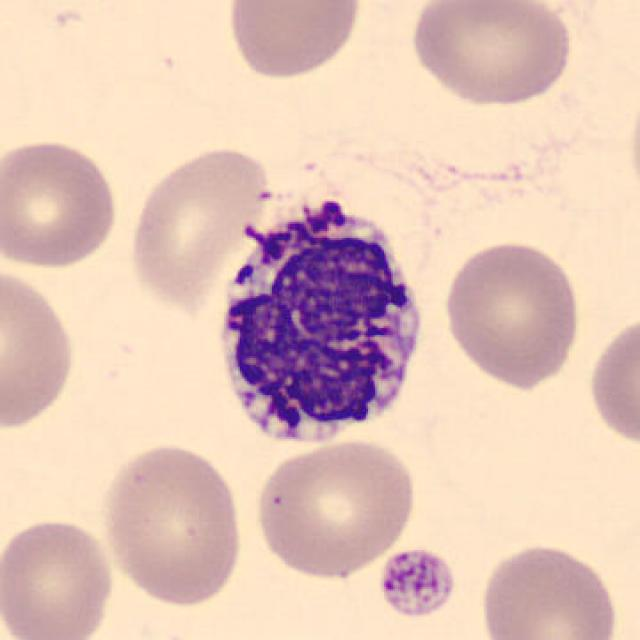Basophil: (202, 189, 436, 462)
Platelets: (373, 543, 459, 621)
RBC: (98, 439, 249, 610), (124, 141, 272, 310), (249, 435, 419, 582), (439, 236, 585, 390), (403, 0, 576, 109), (0, 134, 123, 272), (474, 537, 624, 640), (0, 513, 119, 640), (0, 261, 80, 435), (222, 0, 364, 83), (583, 307, 638, 451), (624, 74, 640, 220)
